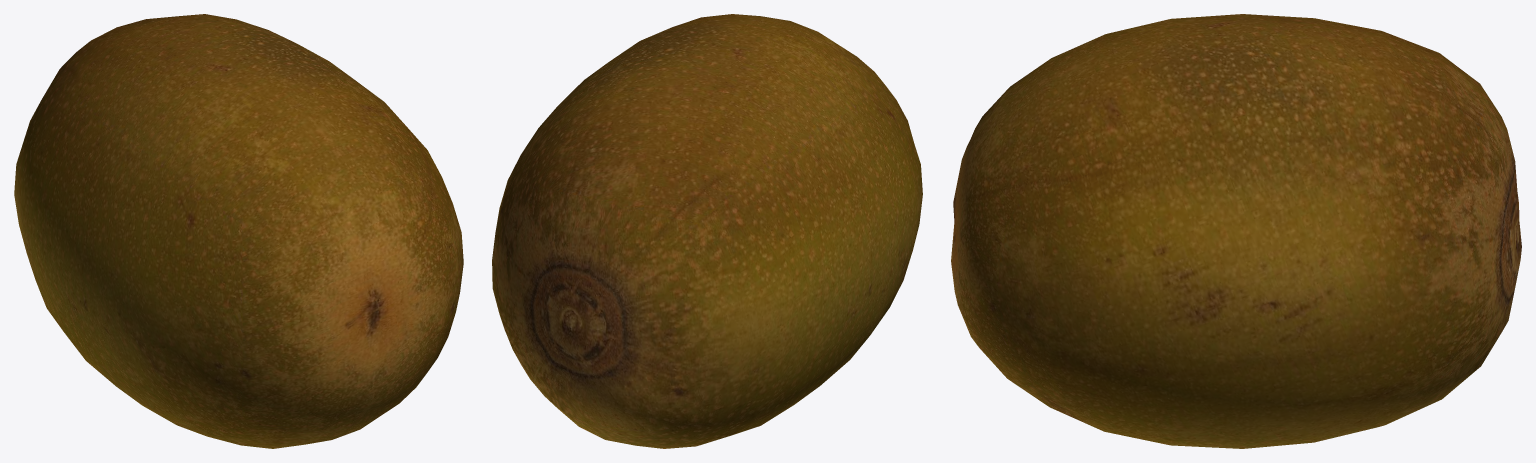
3 renders of one model, left to right at view 1: azimuth 30°, elevation 25°; view 2: azimuth 150°, elevation 25°; view 3: azimuth 270°, elevation 25°, orthographic. The views are drawn at different scales.
Visible parts, largest first — view 1: Kiwi; view 2: Kiwi; view 3: Kiwi.
Boxes of the visible parts, x1,y1,x2,y2 form: Kiwi: (14, 14, 463, 448); Kiwi: (492, 14, 922, 448); Kiwi: (951, 14, 1521, 448).
Size of the model in its own units: 0.0463 by 0.05 by 0.0648.
1 material, 1 textured.
